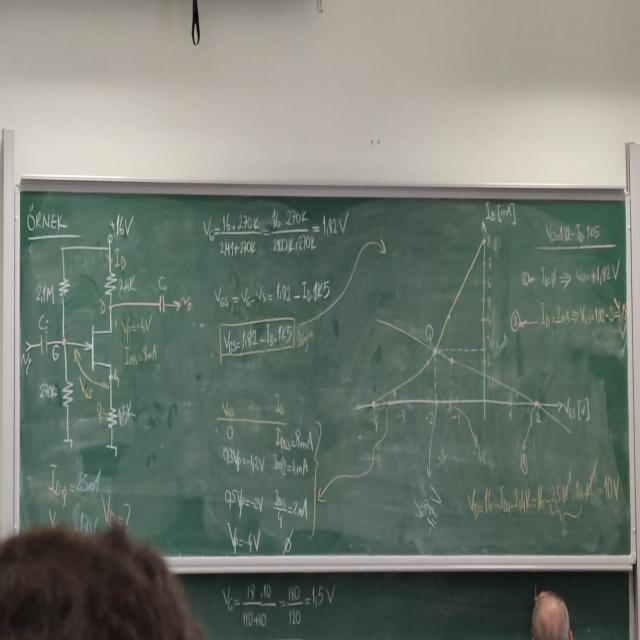image: (348, 198, 593, 456), (22, 205, 197, 465)
math: (212, 398, 320, 553), (464, 471, 622, 528), (202, 201, 349, 257), (220, 573, 336, 627), (208, 272, 334, 310), (220, 313, 316, 360)
